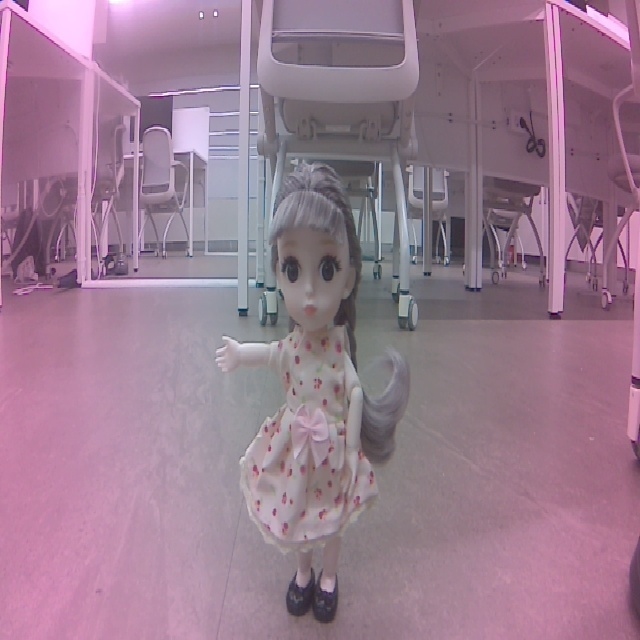장애물: (209, 145, 414, 628)
